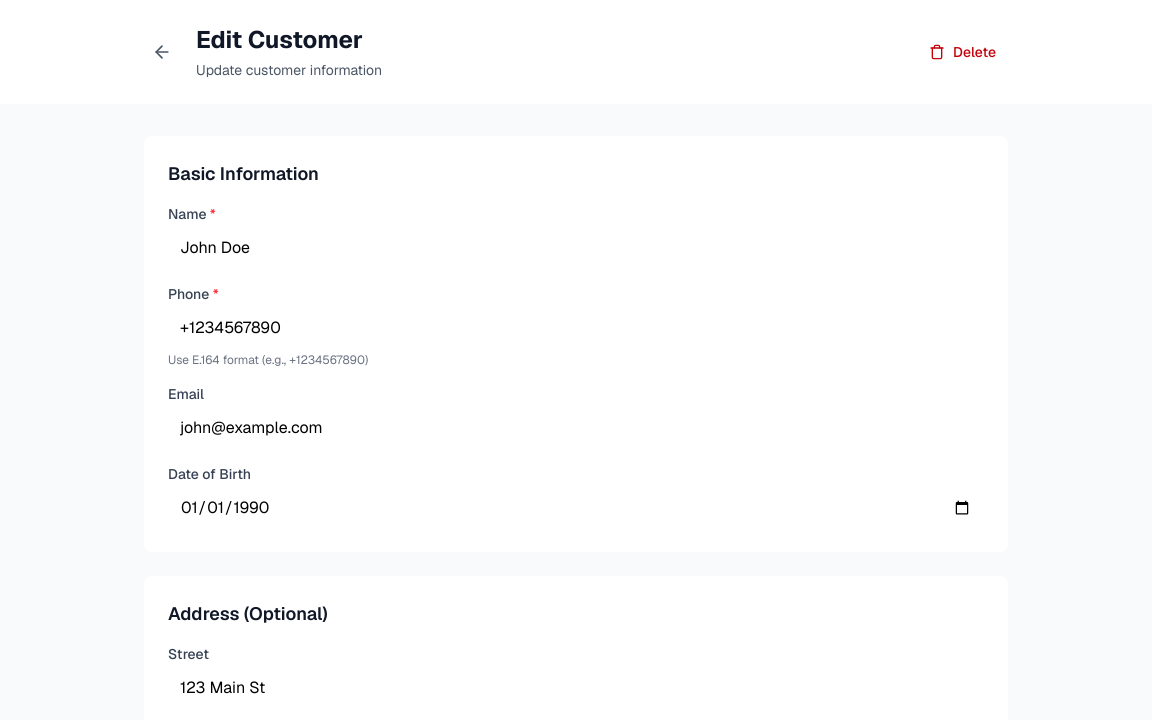
Test: EditCustomerPage › Customer Deletion › should close modal when cancel is clicked
Expected: the field showing "John Doe" is shown, x1=168 y1=228 x2=984 y2=268
Click the button "Delete" at point(962, 52), box x1=917 y1=34 x2=1008 y2=70
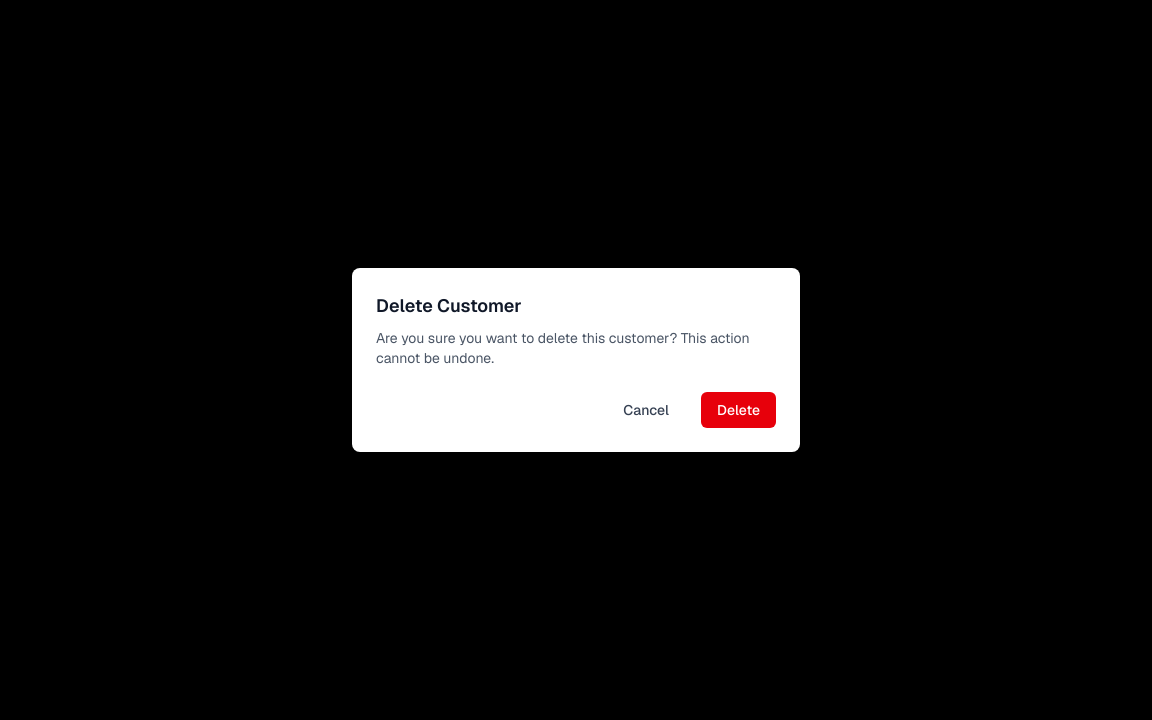
Click the button "Cancel" at point(646, 410), box x1=607 y1=392 x2=685 y2=428
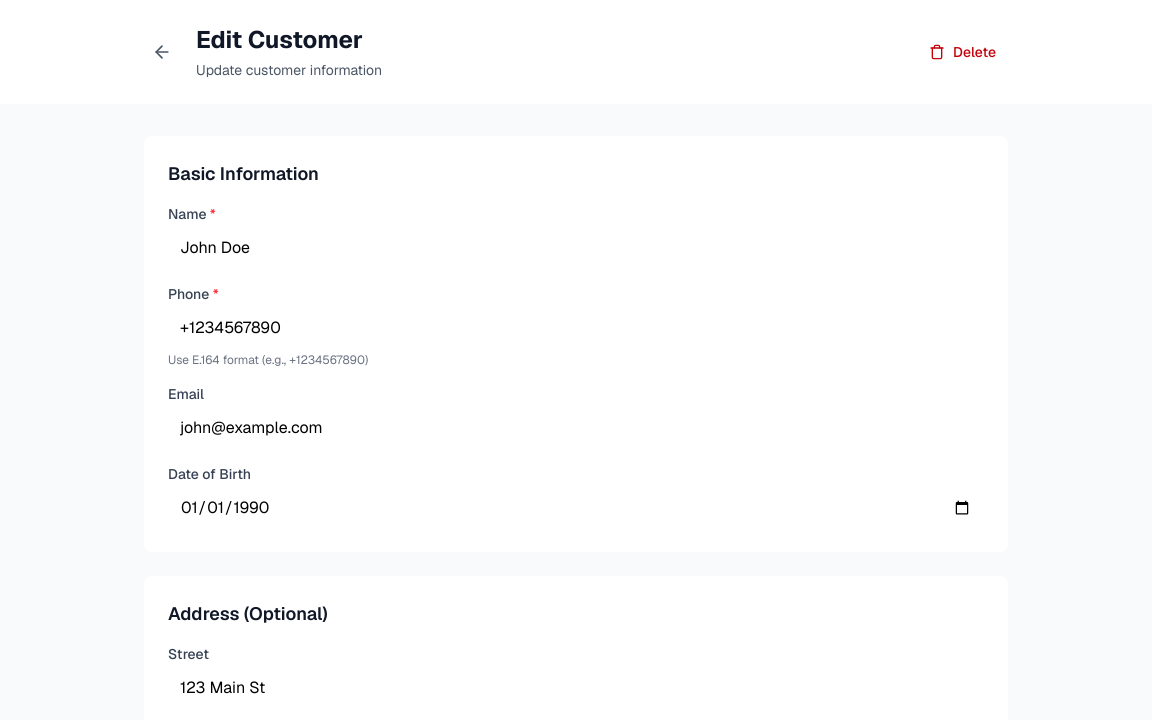
Result: the text "Are you sure you want to delete this customer" is gone
